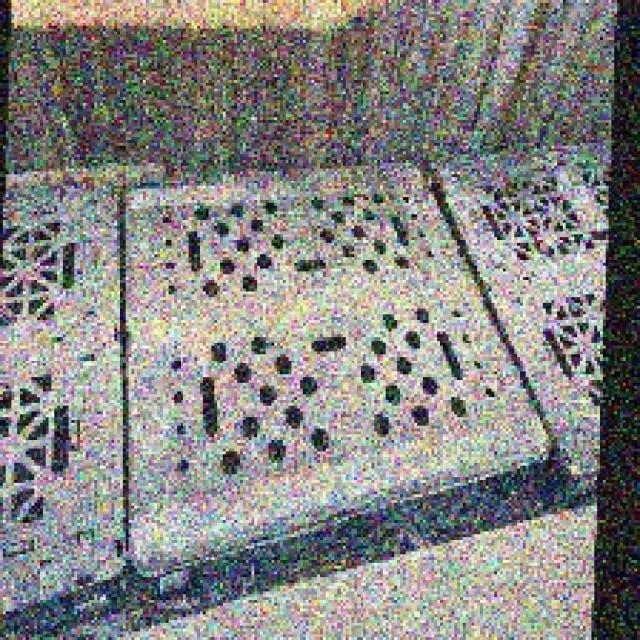igps: (114, 151, 560, 608), (412, 129, 628, 520), (0, 165, 145, 640)
